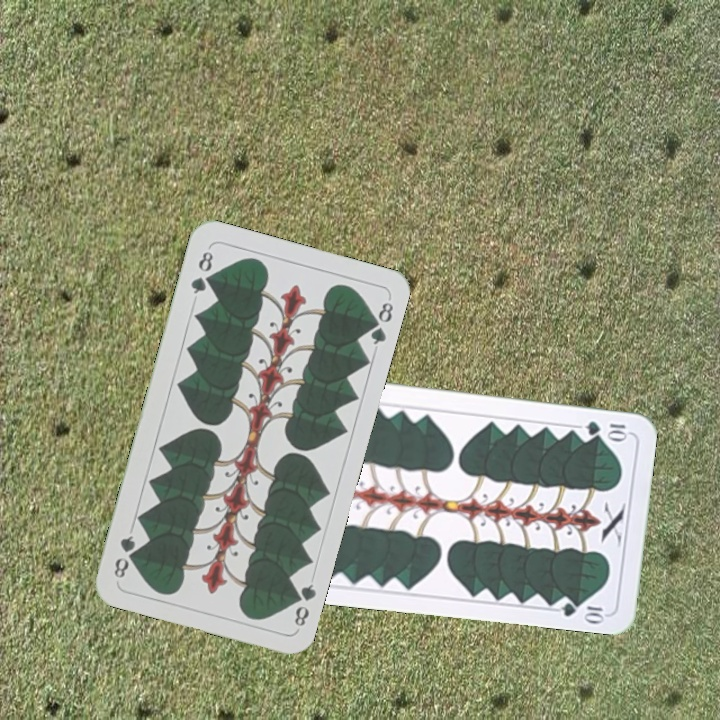G10: (581, 417, 630, 441)
G8: (287, 580, 319, 629), (186, 247, 216, 297)
